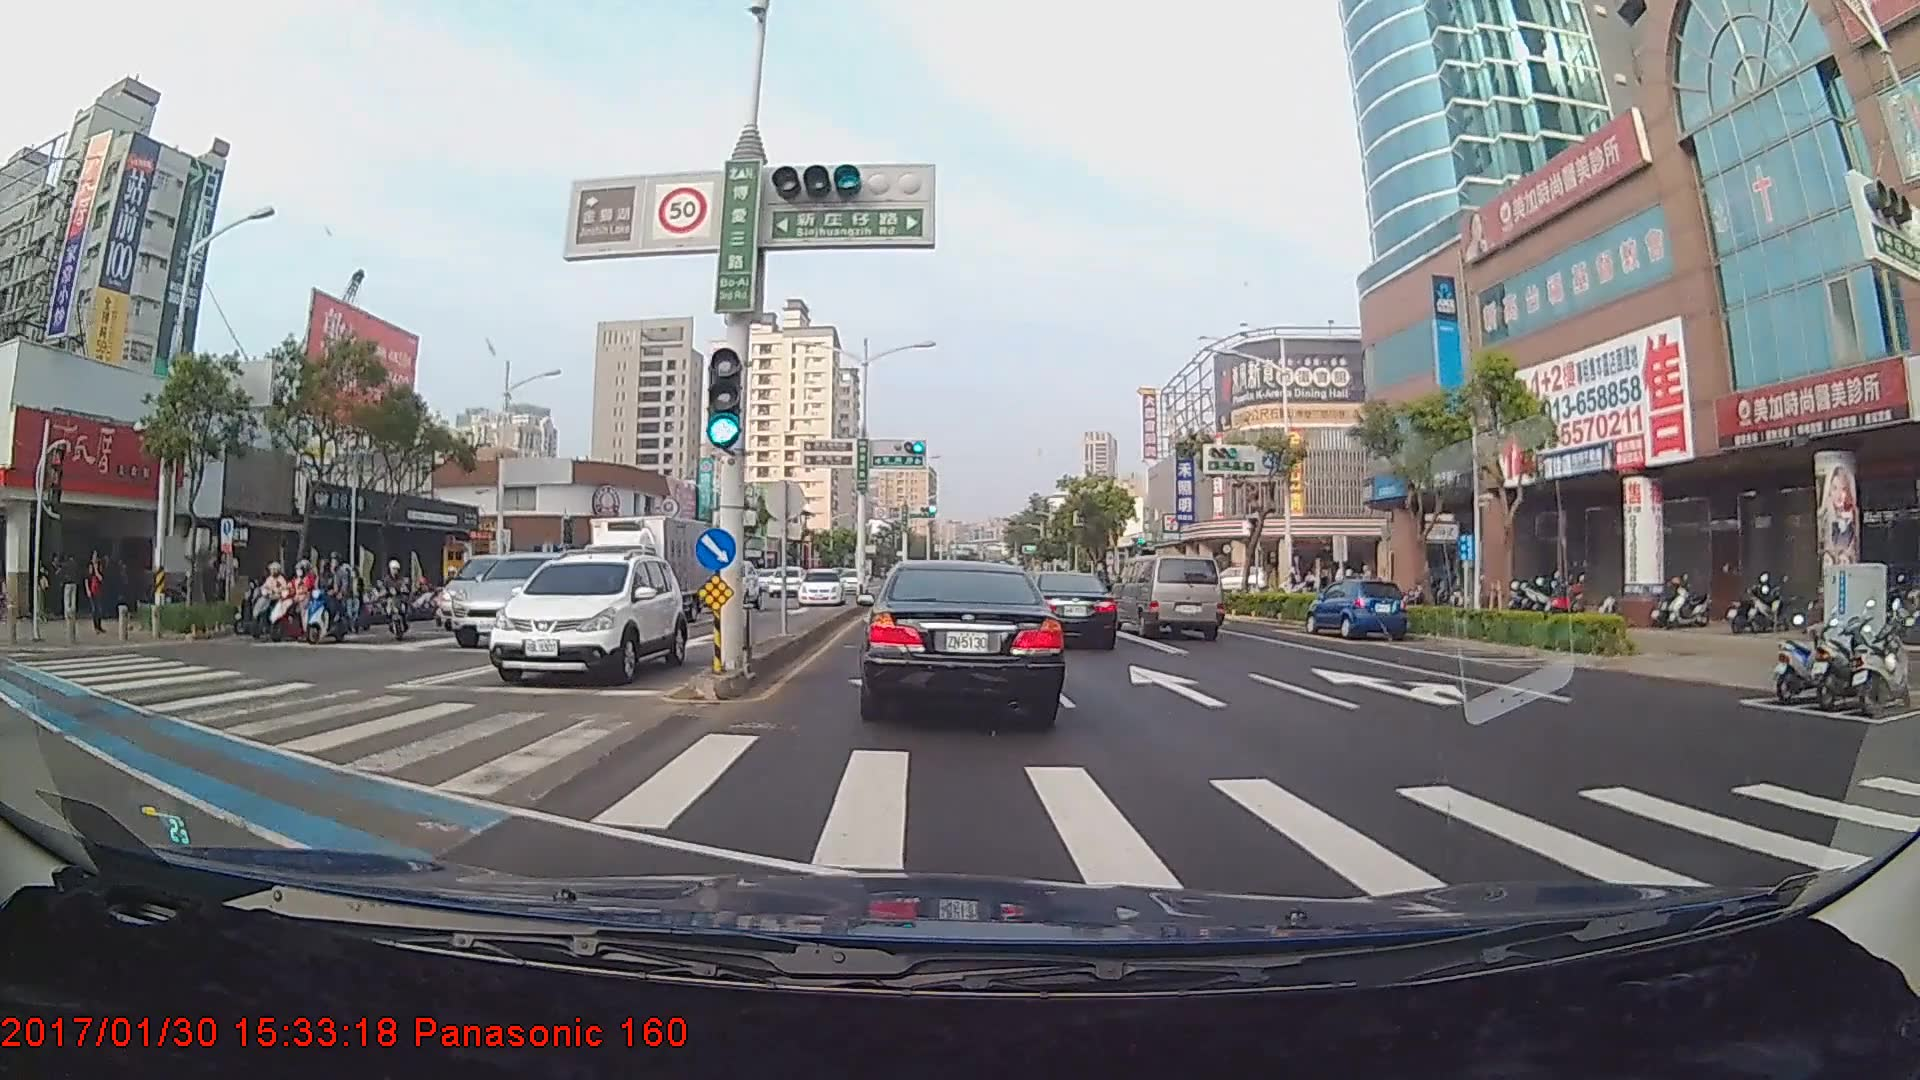pedestrian: (85, 550, 110, 639), (32, 551, 55, 630), (60, 554, 83, 626)
rider: (297, 561, 370, 651), (259, 563, 329, 646), (232, 560, 299, 639), (378, 558, 427, 648)
vehicle: (859, 554, 1061, 724), (490, 554, 684, 684), (566, 512, 709, 645), (450, 552, 586, 650), (1118, 553, 1223, 641), (1015, 573, 1116, 655), (1308, 578, 1407, 641), (696, 559, 760, 610), (793, 575, 841, 611), (768, 571, 800, 601)
